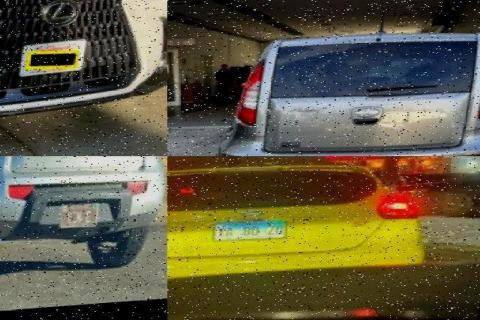LicensePlate: (20, 44, 88, 80), (212, 223, 287, 243), (59, 206, 100, 232)
